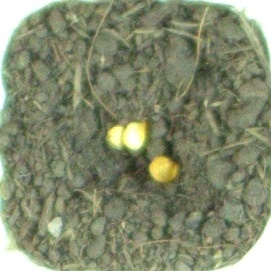chilli seed: (148, 154, 181, 183), (122, 120, 148, 151), (103, 123, 128, 150)
